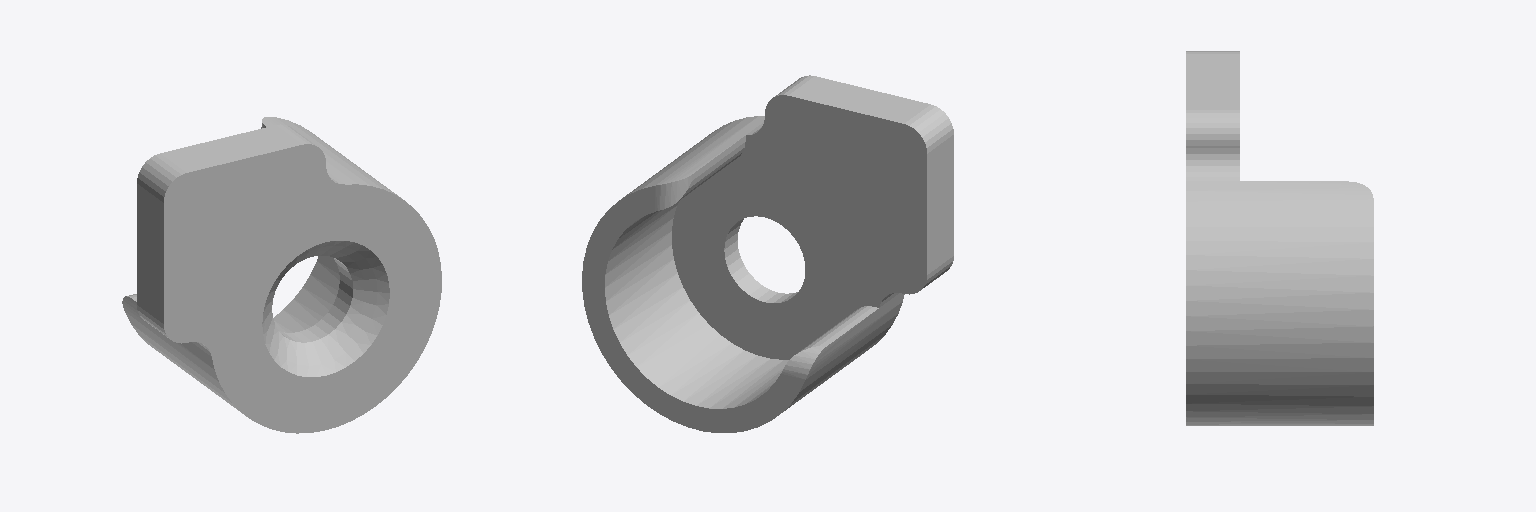
File: Pontas para segurar a placa.obj
3 renders of one model, left to right at view 1: azimuth 30°, elevation 25°; view 2: azimuth 150°, elevation 25°; view 3: azimuth 270°, elevation 25°, orthographic.
Bounding box in the file's own units: 12 × 12 × 7.